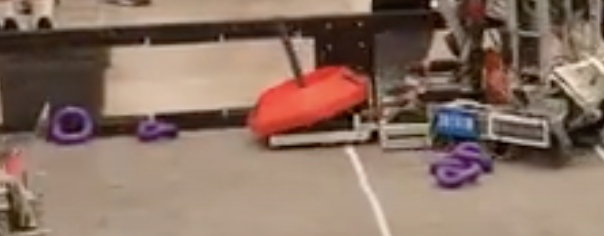ring: (48, 104, 95, 142), (451, 141, 496, 174), (438, 163, 482, 192), (137, 119, 178, 142), (431, 155, 466, 174)
